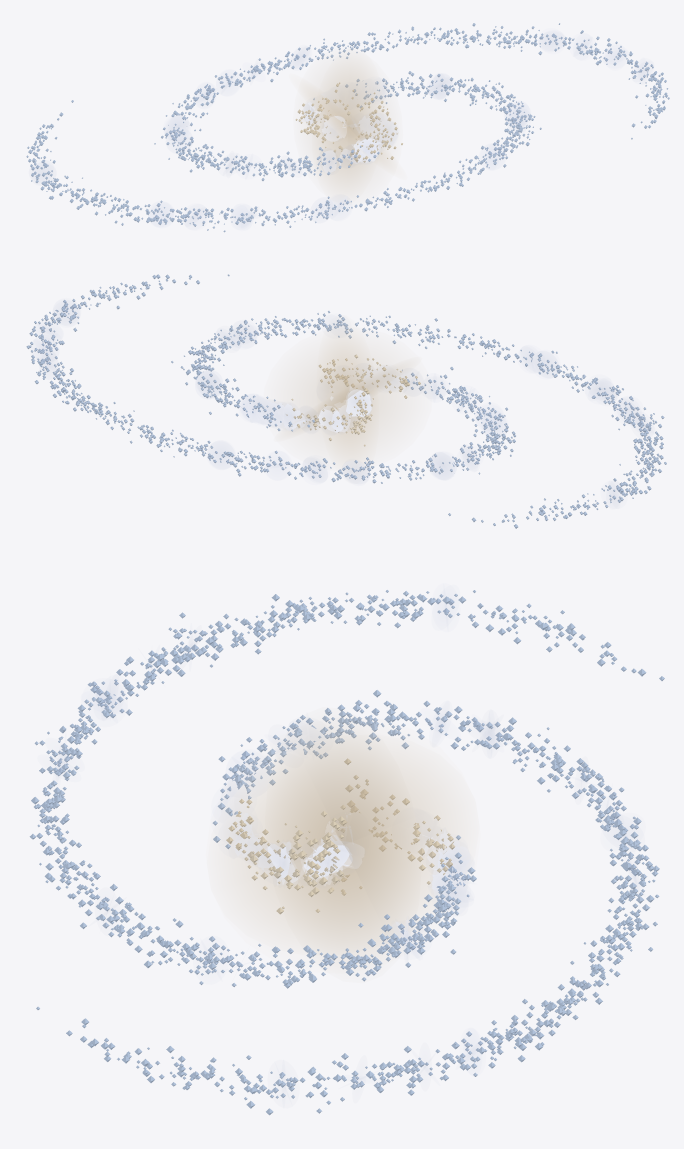
3 views of the same model, one above another, from view 1: azimuth 30°, elevation 25°; view 2: azimuth 150°, elevation 25°; view 3: azimuth 270°, elevation 25° (orthographic). The views are drawn at different scales.
Size of the model in its own units: 7.27 by 1.78 by 3.88.
